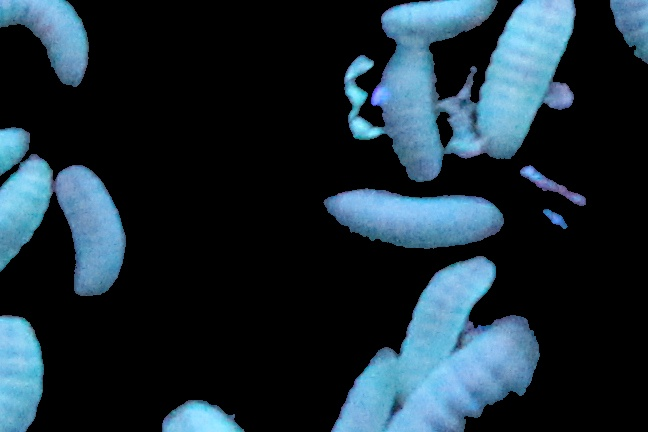larvae: (390, 322, 539, 432), (476, 1, 577, 157), (403, 256, 497, 389), (323, 185, 505, 248), (375, 43, 445, 181), (56, 161, 125, 293), (1, 1, 91, 87), (1, 313, 54, 432), (335, 347, 403, 432), (1, 159, 53, 270), (379, 1, 497, 40)
